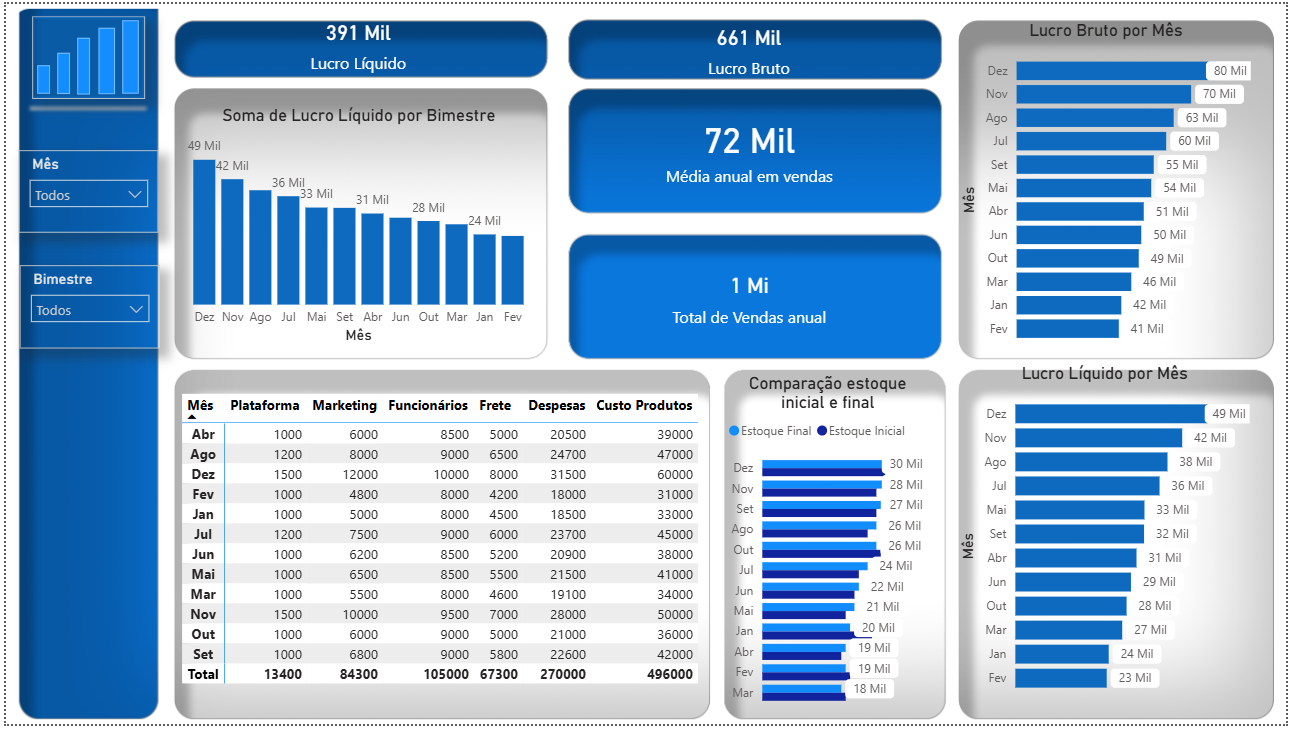

Layout of this report page (visuals, bound fields, positions):
{"tool":"powerbi","page":{"name":"DASHBOARD PRINCIPAL","canvas":[1280,720],"ordinal":0},"visuals":[{"type":"barChart","fields":{"Category":["Power BI.Mês"],"Y":["Sum(Power BI.Lucro Líquido (R$))"]},"box":[950,361.2,300,340],"z":1000},{"type":"pivotTable","fields":{"Values":["Sum(Power BI.Plataforma (R$))","Sum(Power BI.Marketing (R$))","Sum(Power BI.Funcionários (R$))","Sum(Power BI.Frete (R$))","Sum(Power BI.Despesas Fixas (R$))","Sum(Power BI.Custo Produtos (R$))"],"Rows":["Power BI.Mês"]},"box":[162.2,387.4,530.1,309.3],"z":2000},{"type":"shape","box":[31,61.5,13,28.5],"z":3000},{"type":"shape","box":[51.6,48.7,12.9,41.3],"z":4000},{"type":"shape","box":[71.6,33.2,12.9,56.8],"z":5000},{"type":"clusteredColumnChart","title":"Soma de Lucro Líquido por Bimestre","fields":{"Y":["Min(Power BI.Lucro Líquido (R$))"],"Category":["Power BI.Mês"]},"box":[173.8,105,362.5,242.5],"z":6000},{"type":"slicer","fields":{"Values":["Power BI.Mês"]},"box":[18.3,148.7,134.3,82.6],"z":7000},{"type":"slicer","fields":{"Values":["Power BI.Primeiro Trimestre","Power BI.Segundo Trimestre","Power BI.Terceiro Trimestre","Power BI.Quarto Trimestre"]},"box":[18.3,265.2,137.4,83],"z":8000},{"type":"clusteredBarChart","title":"comparação estoque inicial e final","fields":{"Category":["Power BI.Mês"],"Y":["Sum(Power BI.Estoque Final (R$))","Sum(Power BI.Estoque Inicial (R$))"]},"box":[718.3,371.7,208.3,341.7],"z":9000},{"type":"card","fields":{"Values":["Sum(Power BI.Vendas (R$))"]},"box":[562.5,230.7,363.8,126.3],"z":10000},{"type":"card","fields":{"Values":["Min(Power BI.Vendas (R$))"]},"box":[562.5,90,363.8,116.2],"z":11000},{"type":"shape","box":[26.9,12.7,113.5,81.9],"z":12000},{"type":"barChart","fields":{"Category":["Power BI.Mês"],"Y":["Sum(Power BI.Lucro Bruto (R$))"]},"box":[950,16.2,300,332.5],"z":13000},{"type":"shape","box":[92.4,23.4,16.6,66.6],"z":14000},{"type":"shape","box":[116.6,16.6,16.6,73.4],"z":15000},{"type":"card","fields":{"Values":["Sum(Power BI.Lucro Líquido (R$))"]},"box":[188.8,8.8,332.5,71.2],"z":16000},{"type":"card","fields":{"Values":["Sum(Power BI.Lucro Bruto (R$))"]},"box":[578.8,10,331.2,70],"z":17000}]}

Visuals, with their boxes in screenshot pixels (x1, y1, x2, y2), scaled from the page's 1280x720 canvas onto the 1291x729 screenshot:
barChart - Power BI.Mês x Sum(Power BI.Lucro Líquido (R$)): (left=958, top=366, right=1261, bottom=710)
pivotTable - Sum(Power BI.Plataforma (R$)) x Sum(Power BI.Marketing (R$)): (left=164, top=392, right=698, bottom=705)
shape: (left=31, top=62, right=44, bottom=91)
shape: (left=52, top=49, right=65, bottom=91)
shape: (left=72, top=34, right=85, bottom=91)
"Soma de Lucro Líquido por Bimestre" clusteredColumnChart: (left=175, top=106, right=541, bottom=352)
slicer - Power BI.Mês: (left=18, top=151, right=154, bottom=234)
slicer - Power BI.Primeiro Trimestre x Power BI.Segundo Trimestre: (left=18, top=269, right=157, bottom=353)
"comparação estoque inicial e final" clusteredBarChart: (left=724, top=376, right=935, bottom=722)
card - Sum(Power BI.Vendas (R$)): (left=567, top=234, right=934, bottom=361)
card - Min(Power BI.Vendas (R$)): (left=567, top=91, right=934, bottom=209)
shape: (left=27, top=13, right=142, bottom=96)
barChart - Power BI.Mês x Sum(Power BI.Lucro Bruto (R$)): (left=958, top=16, right=1261, bottom=353)
shape: (left=93, top=24, right=110, bottom=91)
shape: (left=118, top=17, right=134, bottom=91)
card - Sum(Power BI.Lucro Líquido (R$)): (left=190, top=9, right=526, bottom=81)
card - Sum(Power BI.Lucro Bruto (R$)): (left=584, top=10, right=918, bottom=81)
